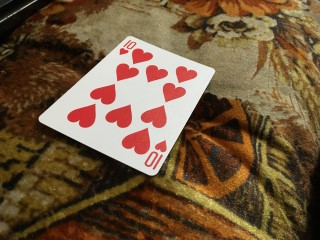TenOfHearts: (39, 37, 216, 176)
